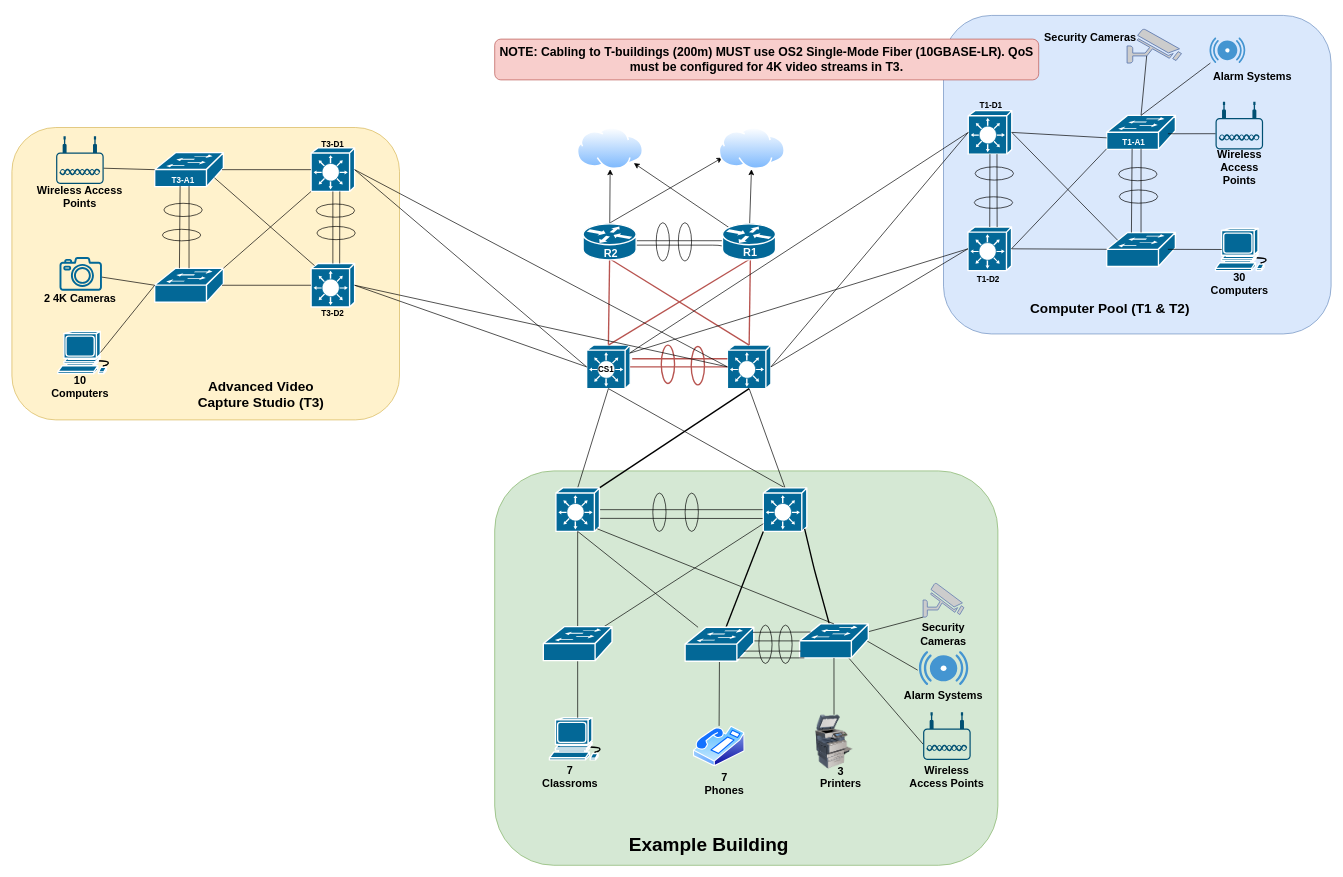
Some shapes in this 1343 by 877 pixel diagram are drawn without their labels. The centre of each missing label's shape, as x and y in pixels:
CS2: point (748, 366)
T1-A2: point (1141, 249)
T3-A2: point (189, 285)
